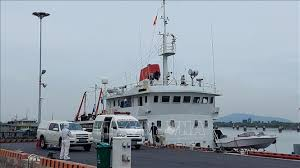tau_dansu: (94, 49, 256, 144)
